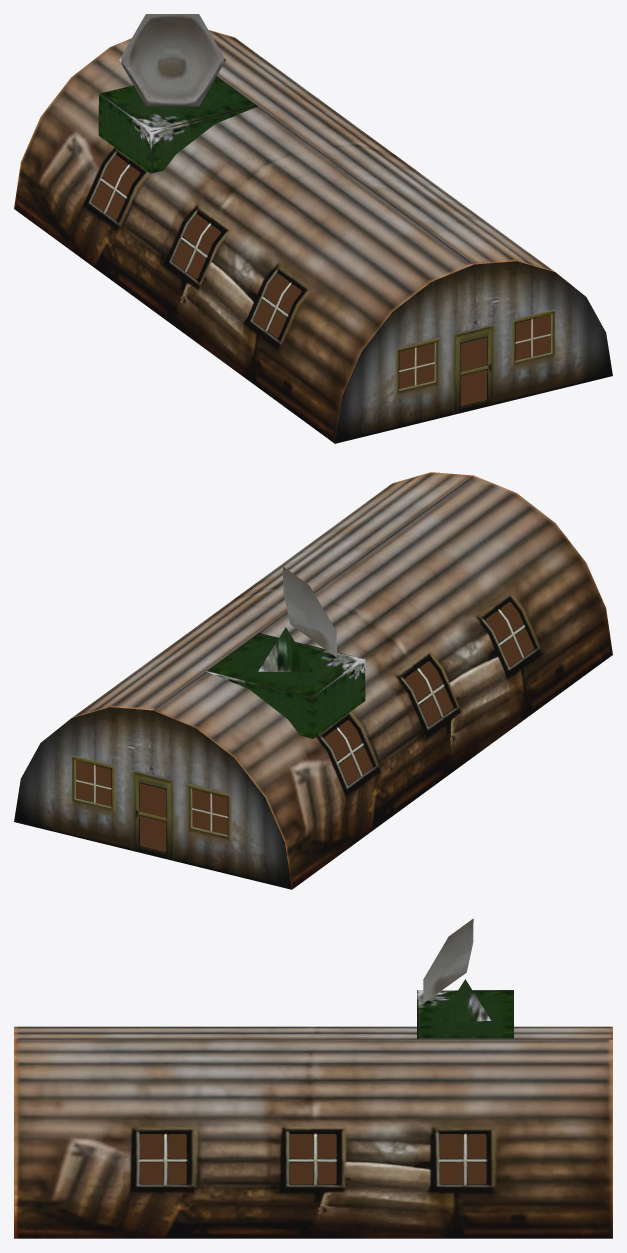
File: quonset2_hdtex.glb
The picture shows the model from 3 angles, top to bottom: view 1: azimuth 30°, elevation 25°; view 2: azimuth 150°, elevation 25°; view 3: azimuth 270°, elevation 25°; orthographic projection. The views are drawn at different scales.
Visible parts, largest first — view 1: quonset2, LitWin_Quonset2; view 2: quonset2, LitWin_Quonset2; view 3: quonset2, LitWin_Quonset2.
Boxes of the visible parts, x1,y1,x2,y2 form: quonset2: [14, 14, 612, 443]; LitWin_Quonset2: [92, 155, 550, 405]; quonset2: [14, 472, 612, 889]; LitWin_Quonset2: [76, 602, 533, 851]; quonset2: [14, 918, 612, 1238]; LitWin_Quonset2: [139, 1134, 486, 1184].
Bounding box in the file's own units: 8.45 × 6.84 × 16.9.
1 material, 1 textured.
